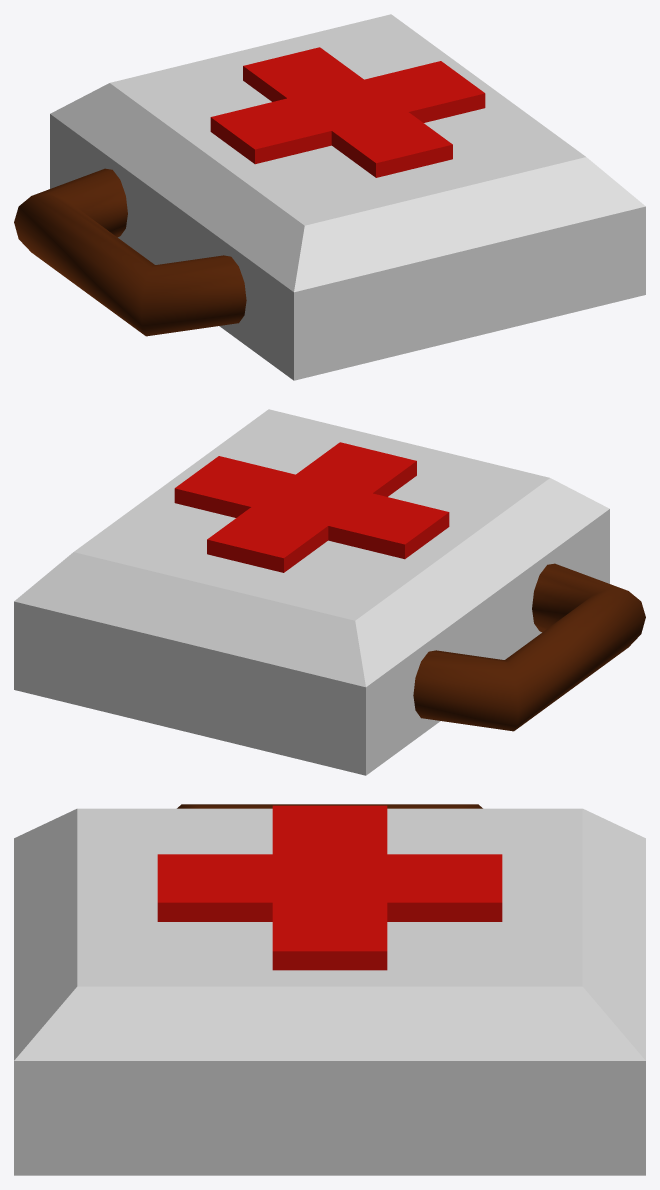
Rendered from healthpack.glb.
The picture shows the model from 3 angles, top to bottom: view 1: azimuth 30°, elevation 25°; view 2: azimuth 150°, elevation 25°; view 3: azimuth 270°, elevation 25°; orthographic projection. The views are drawn at different scales.
Visible parts, largest first — view 1: Cube.002, Cube.009, Torus; view 2: Cube.002, Cube.009, Torus; view 3: Cube.002, Cube.009, Torus.
Part boxes in pixels (box(x1,y1,x2,y2)): Cube.002: box(50, 14, 645, 380); Cube.009: box(210, 47, 485, 177); Torus: box(14, 168, 246, 336); Cube.002: box(14, 409, 609, 775); Cube.009: box(174, 442, 449, 572); Torus: box(413, 563, 645, 731); Cube.002: box(14, 808, 645, 1175); Cube.009: box(157, 805, 502, 970); Torus: box(177, 804, 482, 808).
Bounding box in the file's own units: 3.91 × 1.2 × 3.7.
